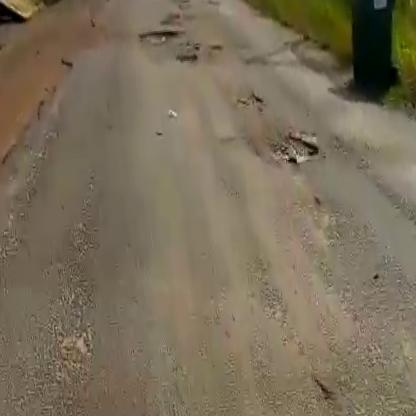pothole: (256, 126, 324, 172), (135, 22, 180, 44), (174, 53, 200, 66)
